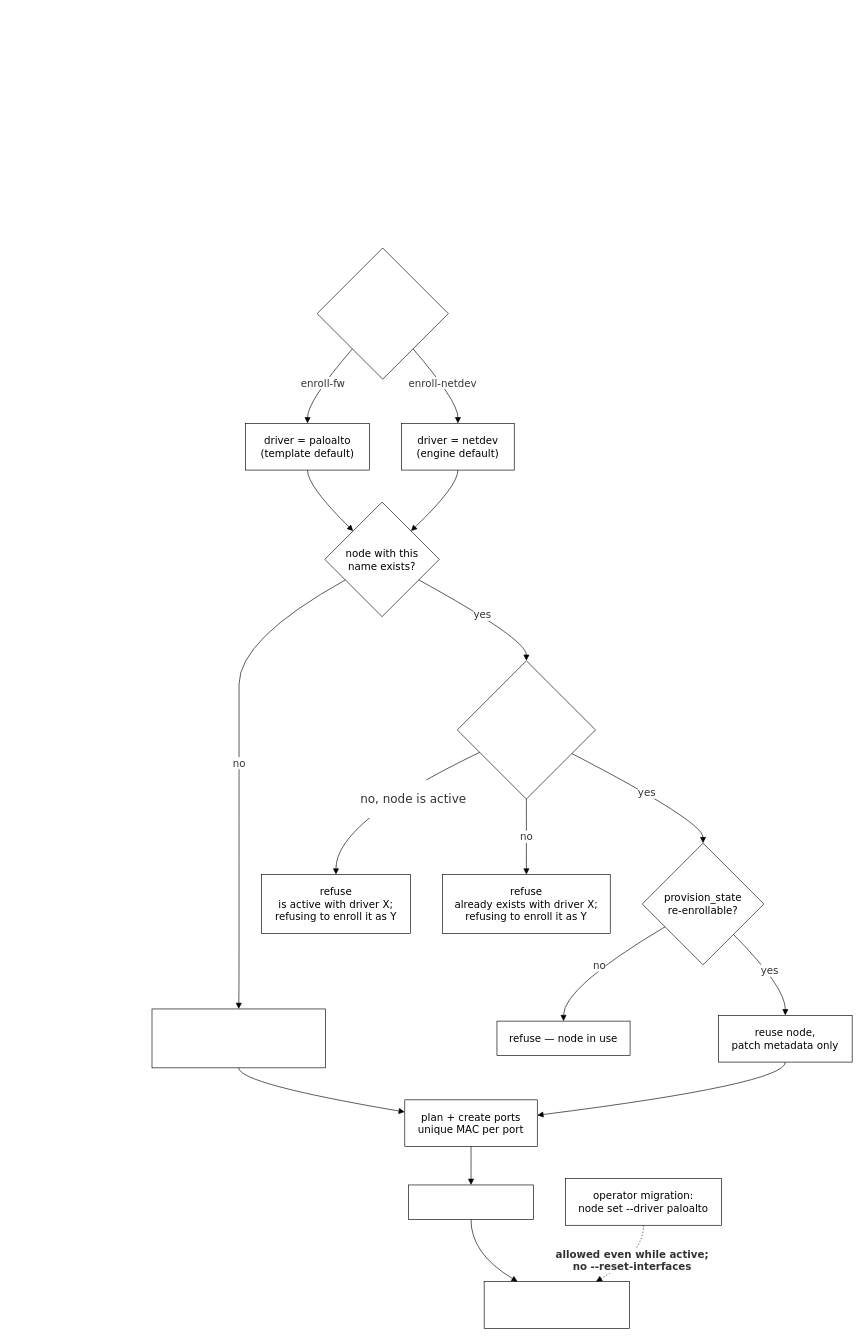
Some shapes in this 863 by 1340 pixel diagram are drawn without their labels. The centre of each missing label's shape, as x and y in pixels:
available no identity, no markers: [556,1304]
create node driver, resource_class, driver_info, extra, properties: [238,1038]
existing driver == requested driver?: [526,729]
manage → provide: [470,1202]
which workflow?: [382,313]
